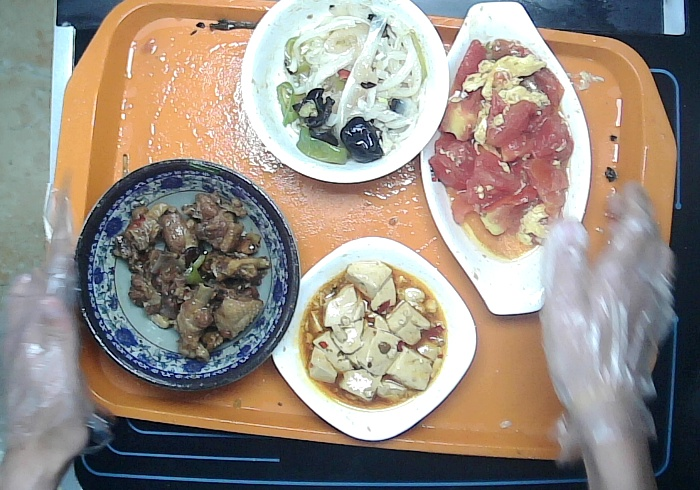ZNLD-Qing_Hua_Wan: (65, 144, 305, 399)
ZNLD-Si_Fang_Wan: (271, 232, 485, 445)
ZNLD-Tang_Wan: (239, 1, 458, 187)
ZNLD-Yu_Pan: (411, 1, 597, 337)
